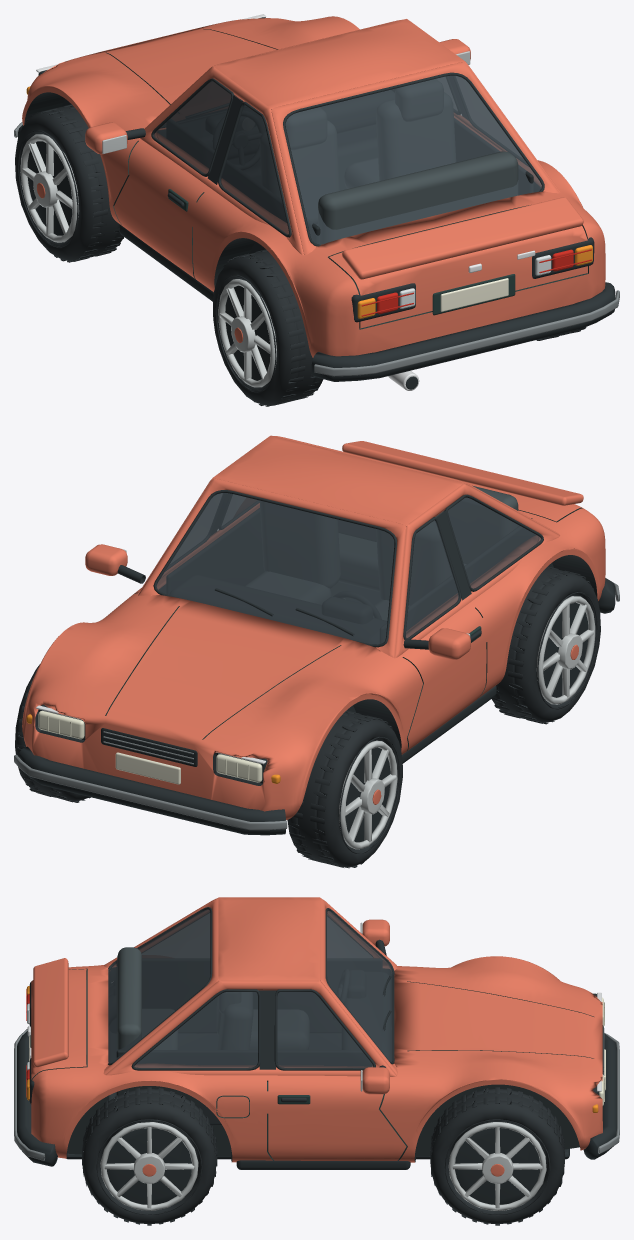
The model's file is comet_lod1.fbx.
3 renders of one model, top to bottom at view 1: azimuth 30°, elevation 25°; view 2: azimuth 150°, elevation 25°; view 3: azimuth 270°, elevation 25°, orthographic. The views are drawn at different scales.
Visible parts, largest first — view 1: Body, Wheel_RL_Mesh, Wheel_FL_Mesh; view 2: Body, Wheel_FL_Mesh, Wheel_RL_Mesh, Wheel_FR_Mesh; view 3: Body, Wheel_RR_Mesh, Wheel_FR_Mesh.
Part boxes in pixels (x1,y1,x2,y2): Body: [14, 14, 619, 390]; Wheel_RL_Mesh: [213, 249, 323, 406]; Wheel_FL_Mesh: [15, 104, 123, 262]; Body: [14, 435, 619, 835]; Wheel_FL_Mesh: [287, 710, 402, 868]; Wheel_RL_Mesh: [492, 566, 600, 724]; Wheel_FR_Mesh: [15, 664, 90, 802]; Body: [14, 897, 619, 1169]; Wheel_RR_Mesh: [82, 1087, 217, 1225]; Wheel_FR_Mesh: [430, 1087, 564, 1225].
Bounding box in the file's own units: 232 × 153 × 369.
